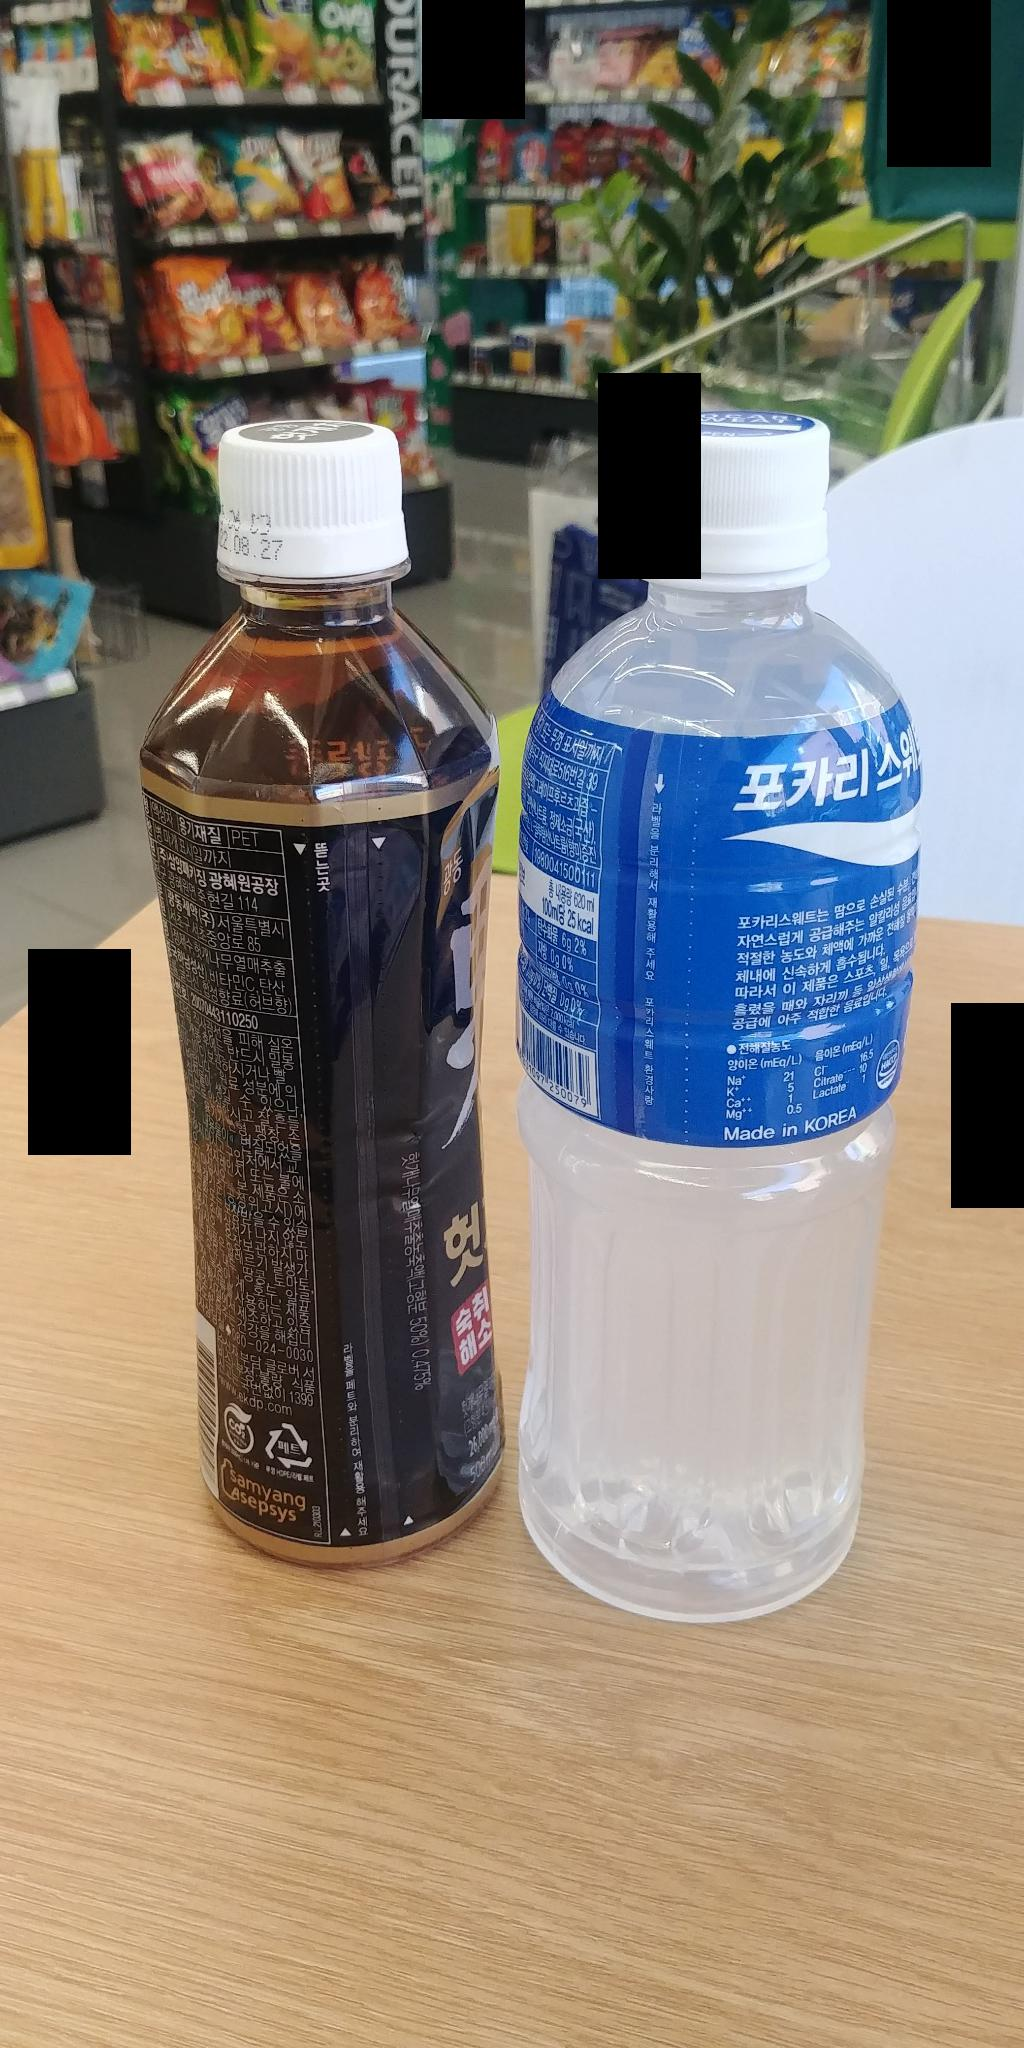heotgaecha: (116, 404, 533, 1583)
pocarisweat: (491, 384, 930, 1651)
